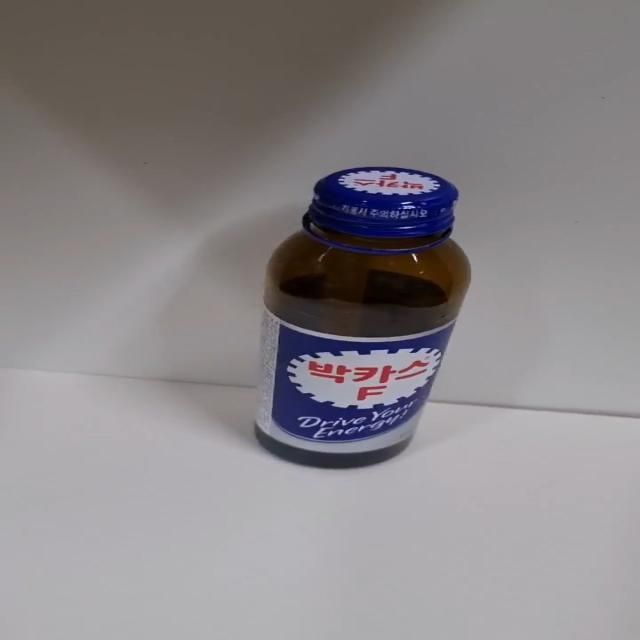Glass: (252, 166, 472, 472)
